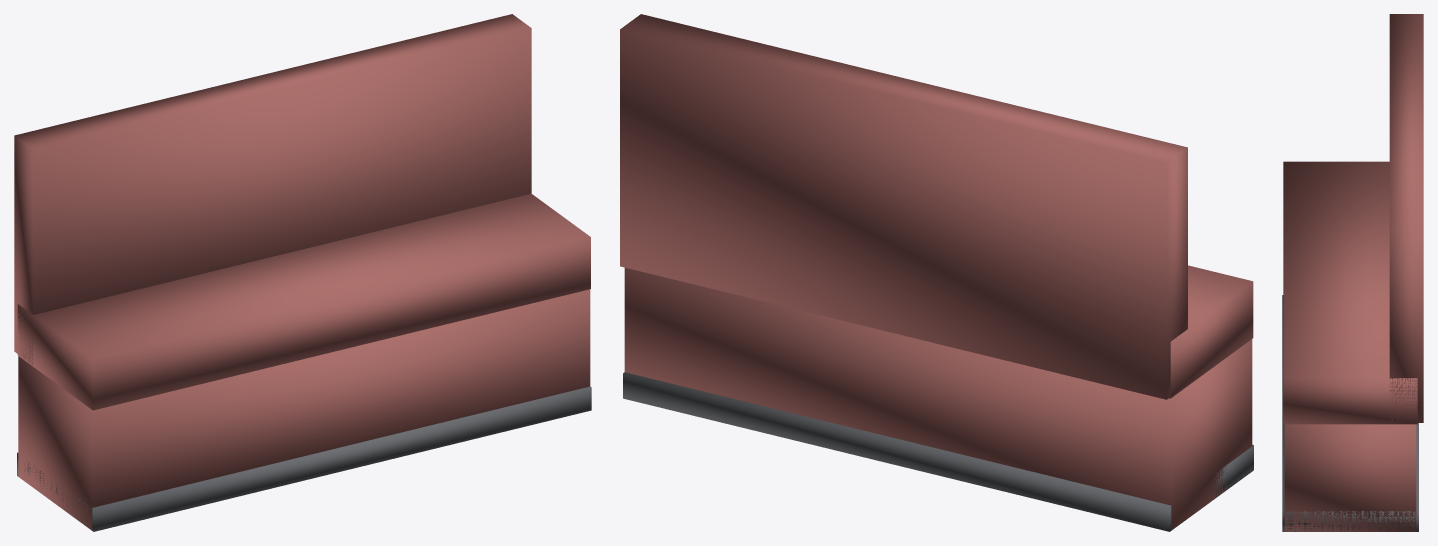
The model's file is diner_booth_double__tall.glb.
3 renders of one model, left to right at view 1: azimuth 30°, elevation 25°; view 2: azimuth 150°, elevation 25°; view 3: azimuth 270°, elevation 25°, orthographic. The views are drawn at different scales.
Visible parts, largest first — view 1: world; view 2: world; view 3: world.
Boxes of the visible parts, bbox=[...] form: world: bbox=[14, 14, 591, 531]; world: bbox=[620, 14, 1253, 531]; world: bbox=[1282, 14, 1423, 531].
Bounding box in the file's own units: 2.1 × 1.36 × 0.58.
